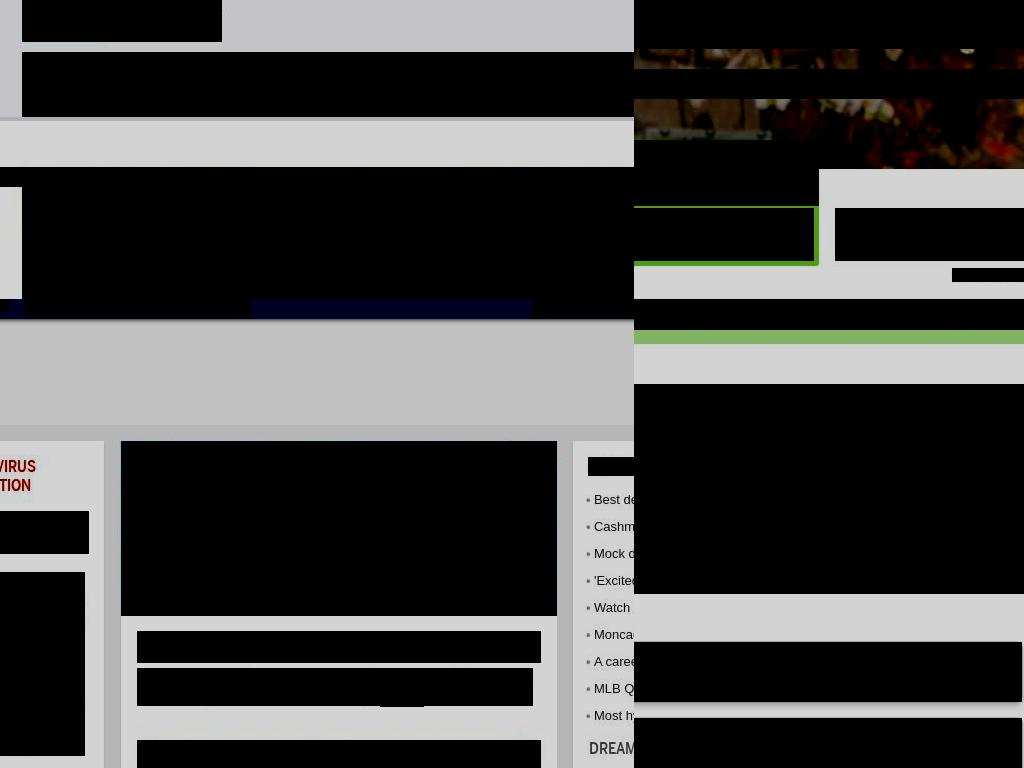button: (121, 441, 557, 616), (634, 642, 1022, 702), (634, 718, 1022, 768), (137, 631, 541, 663), (634, 299, 1024, 330), (290, 52, 418, 117), (493, 52, 621, 117), (22, 52, 127, 117), (203, 52, 290, 117), (127, 52, 203, 117), (418, 52, 493, 117), (0, 511, 89, 554), (134, 299, 199, 319), (534, 299, 599, 319), (24, 299, 80, 319), (79, 299, 135, 319), (198, 299, 251, 319)
field: (835, 208, 1024, 261), (634, 208, 814, 261)
heading: (634, 384, 1024, 594), (137, 631, 541, 663), (634, 69, 1024, 99)
image: (22, 167, 634, 299), (121, 441, 557, 616), (22, 0, 222, 42), (982, 660, 1006, 684), (982, 736, 1006, 760)
link: (380, 688, 424, 707), (0, 740, 41, 756), (593, 627, 634, 642)
text: (0, 572, 85, 756), (137, 668, 533, 706), (634, 140, 819, 206), (634, 299, 1024, 330), (634, 734, 848, 762), (634, 658, 775, 686), (0, 511, 89, 554), (0, 457, 89, 495), (305, 77, 403, 96), (37, 77, 112, 96), (144, 299, 201, 319), (532, 299, 589, 319), (218, 77, 275, 96), (952, 268, 1024, 282), (142, 77, 188, 96), (433, 77, 478, 96), (89, 299, 131, 319), (34, 299, 75, 319), (208, 299, 249, 319), (608, 299, 634, 319), (0, 167, 22, 187)
